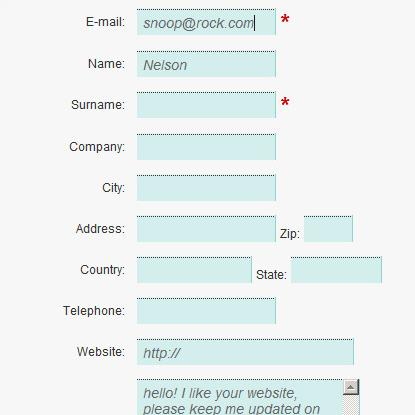field: (133, 338, 356, 366), (132, 90, 279, 120), (134, 7, 277, 37), (132, 133, 279, 162), (132, 174, 277, 203), (134, 49, 277, 78), (132, 297, 280, 325), (132, 215, 278, 243), (132, 255, 255, 285), (286, 255, 385, 286), (298, 215, 353, 243)
field_with_label: (76, 336, 358, 368), (64, 295, 284, 327), (68, 131, 282, 163), (75, 213, 280, 246), (72, 89, 281, 121), (85, 4, 279, 38), (89, 47, 281, 80), (102, 172, 279, 204), (80, 255, 259, 286), (129, 214, 301, 246), (254, 253, 387, 289), (282, 214, 355, 245)
